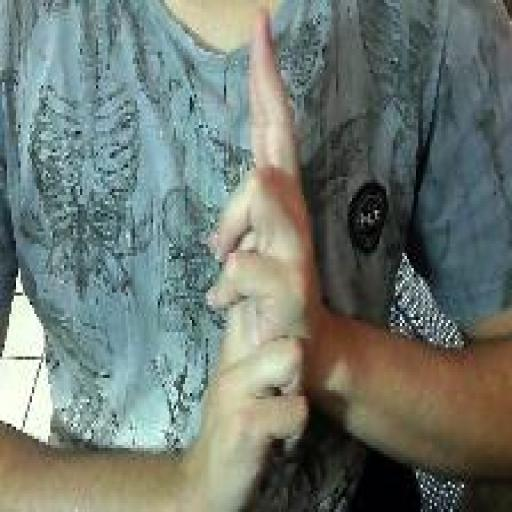Hitsuji -ram-: (199, 3, 320, 512)
